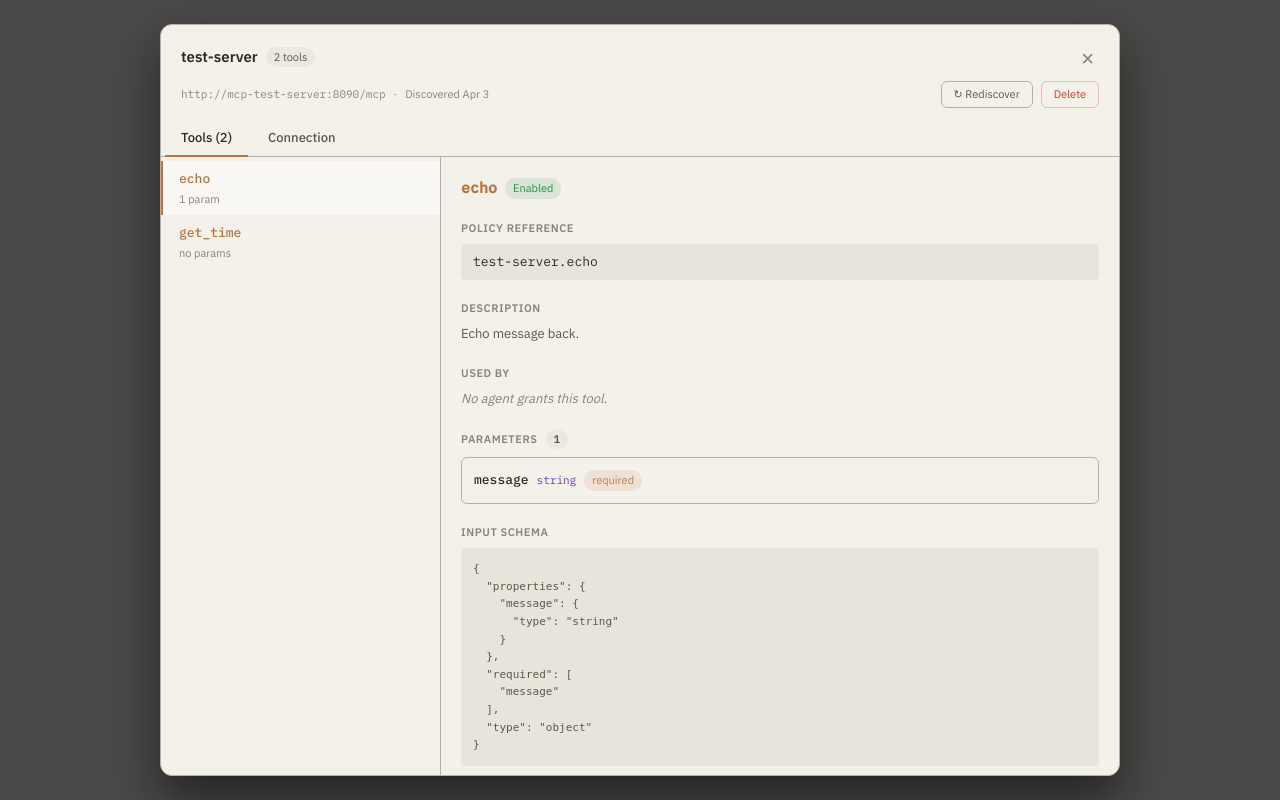
Test: ServerDetailModal — auth header editor › lists stored header names and offers "Edit headers" when auth_header_keys is populated
This screenshot has width=1280, height=800.
What coordinates should you click on to do the following:
click the tab "Connection"
I would click on:
 (302, 138)
Its box is [252,120,352,157].
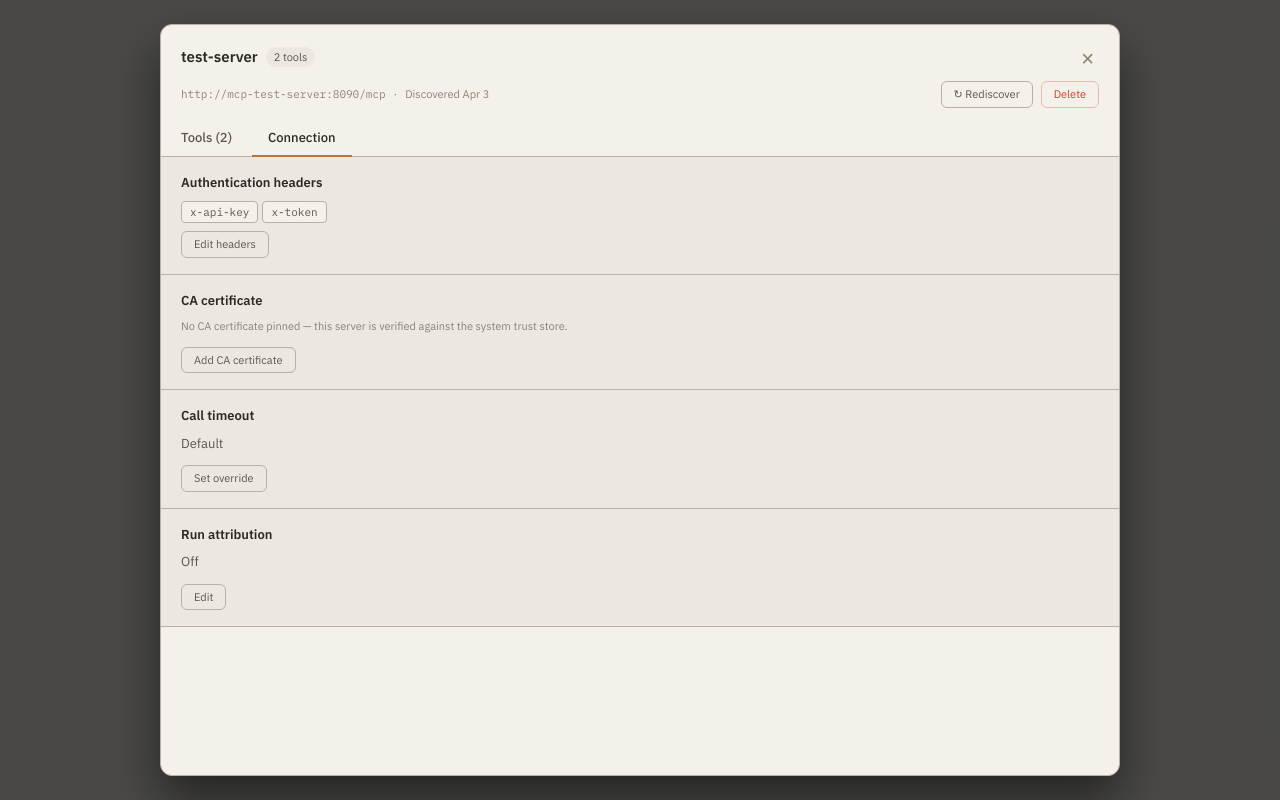
Check: the text "x-api-key" is shown, box [181,200,258,223]
Check: the text "x-token" is shown, box [262,200,327,223]
Check: the button "Edit headers" is shown, box [181,231,269,258]
